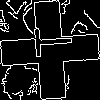T: (25, 25, 73, 59)
